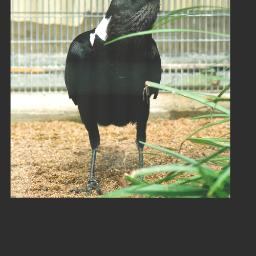Crow: (65, 0, 180, 196)
